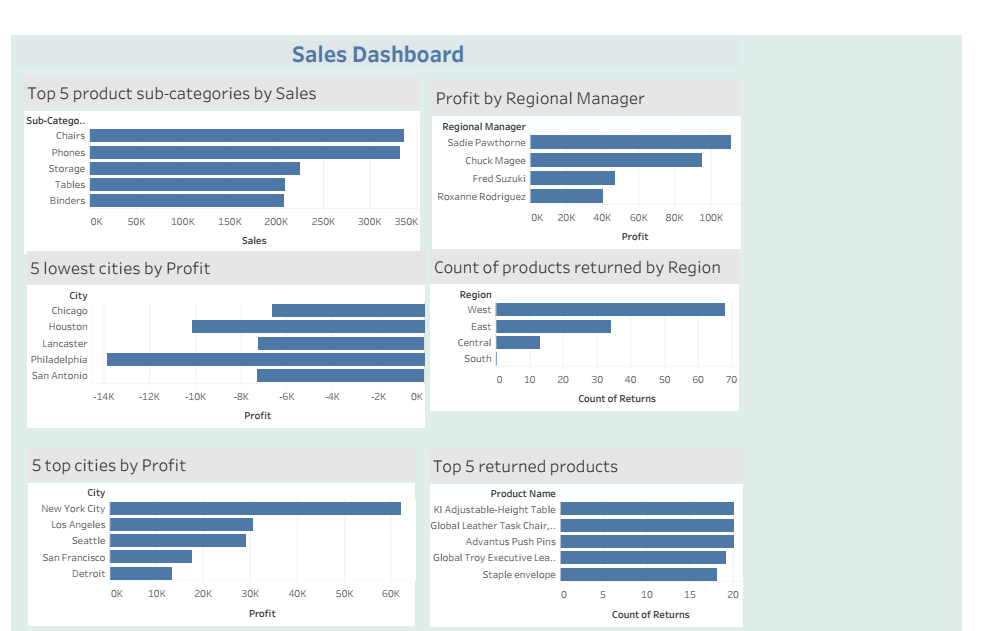

What the dashboard file says about the page in this screenshot:
{"tool":"tableau","page":{"name":"Dashboard 1","canvas":[1169,827],"ordinal":0},"visuals":[{"type":"text","box":[8,7,887,30]},{"type":"worksheet","title":"Sheet 1","mark":"Automatic","rows":["Sub-Category"],"cols":["Sales"],"box":[16,50,486,220]},{"type":"worksheet","title":"Sheet 3","mark":"Automatic","rows":["Regional Manager"],"cols":["Profit"],"box":[518,57,379,209]},{"type":"worksheet","title":"Sheet 4","mark":"Automatic","rows":["Region"],"cols":["Returns_50584DF1F3954D539419EF346C2AA0E5"],"box":[516,264,379,228]},{"type":"worksheet","title":"Sheet 6","mark":"Automatic","rows":["City"],"cols":["Profit"],"box":[19,265,489,228]},{"type":"worksheet","title":"Sheet 7","mark":"Automatic","rows":["City"],"cols":["Profit"],"box":[21,508,476,224]},{"type":"worksheet","title":"Sheet 5","mark":"Automatic","rows":["Product Name"],"cols":["Returns_50584DF1F3954D539419EF346C2AA0E5"],"box":[515,509,384,222]}]}

Visuals, with their boxes on the page's 1169x827 design canvas (x1, y1, x2, y2). These are canvas units, not pixel positions in the 1008x631 screenshot, which may show the page scaled, cropped or inside an application window:
text: (left=8, top=7, right=895, bottom=37)
"Sheet 1" worksheet: (left=16, top=50, right=502, bottom=270)
"Sheet 3" worksheet: (left=518, top=57, right=897, bottom=266)
"Sheet 4" worksheet: (left=516, top=264, right=895, bottom=492)
"Sheet 6" worksheet: (left=19, top=265, right=508, bottom=493)
"Sheet 7" worksheet: (left=21, top=508, right=497, bottom=732)
"Sheet 5" worksheet: (left=515, top=509, right=899, bottom=731)
